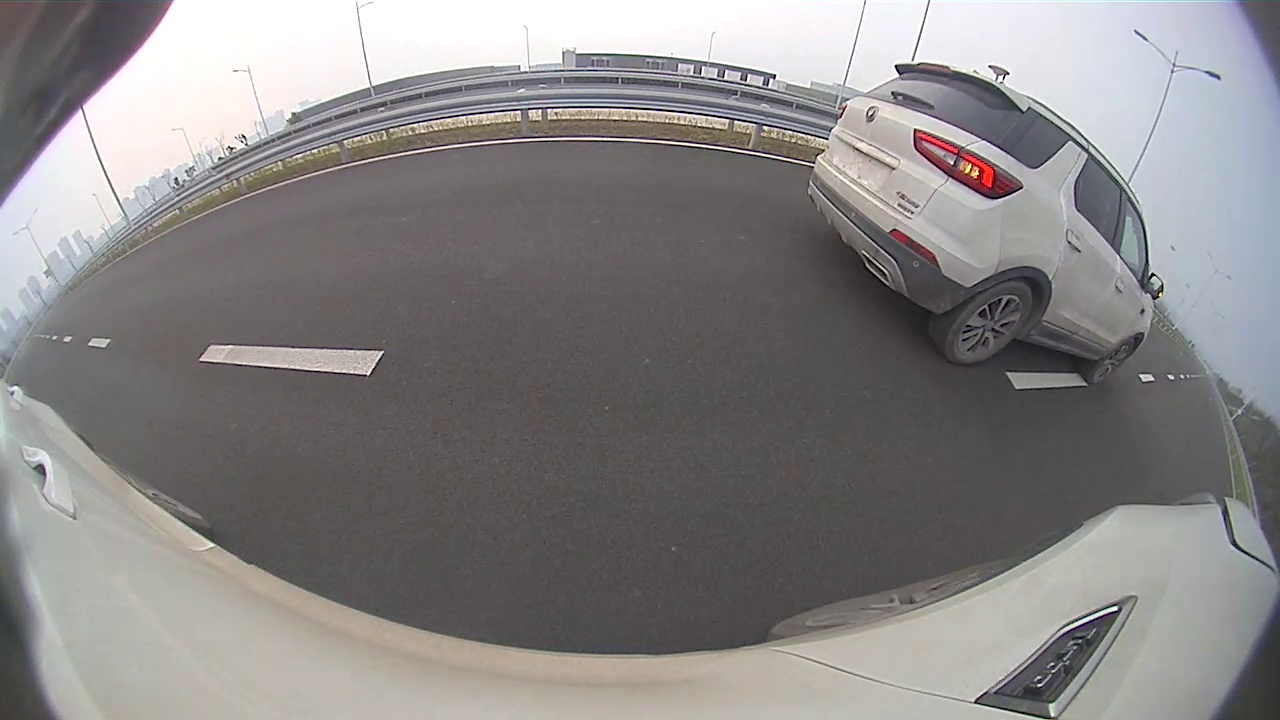car: (806, 64, 1164, 385)
front: (1088, 338, 1139, 386)
rear: (948, 282, 1033, 368)
